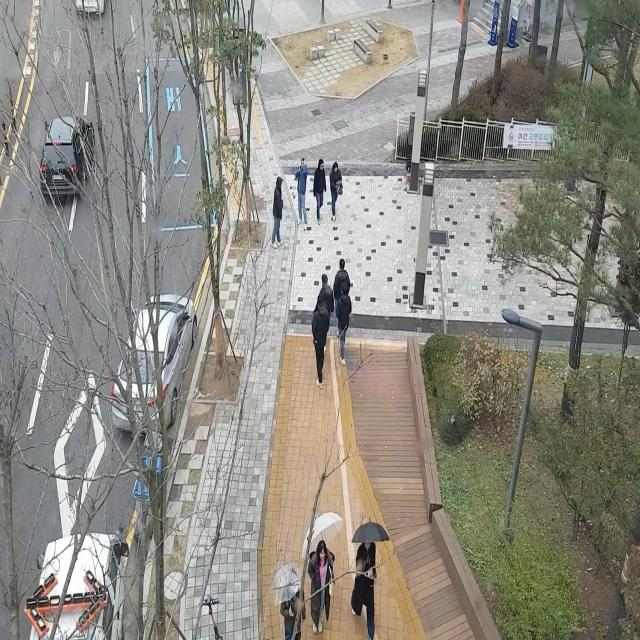Car: (96, 252, 219, 458), (27, 99, 98, 209)
Truck: (24, 504, 130, 640)
